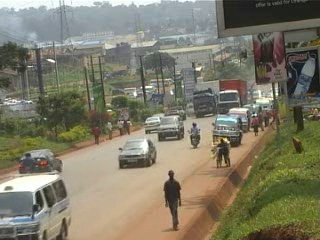Car: (116, 137, 162, 170), (15, 148, 66, 175), (154, 113, 188, 142), (143, 112, 164, 135), (165, 105, 187, 121), (152, 110, 167, 121)
Motorcycle: (20, 155, 39, 175), (186, 124, 201, 148)
